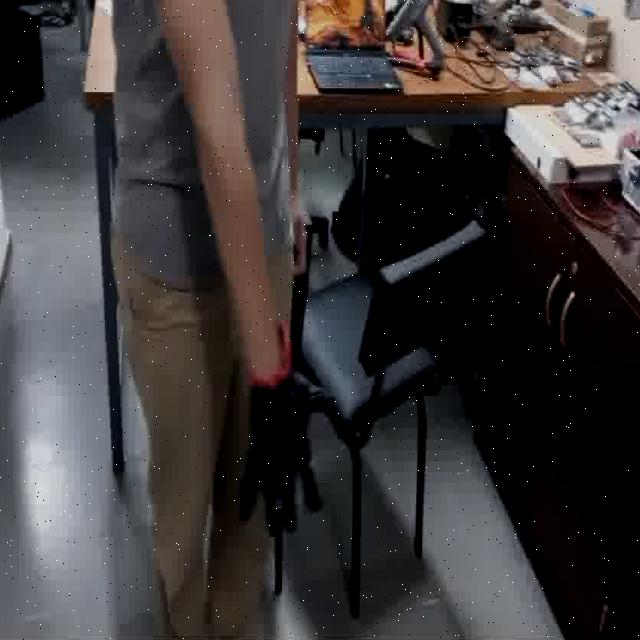Gloves: (230, 326, 355, 539)
